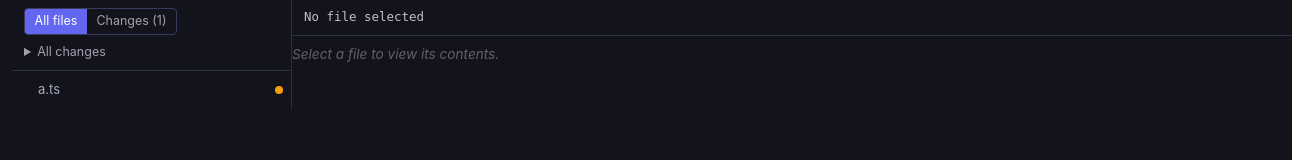
it: FilesPanel › loads file content and toggles between code and diff views
Click the text "a.ts".
click(49, 90)  # box [38, 80, 60, 100]
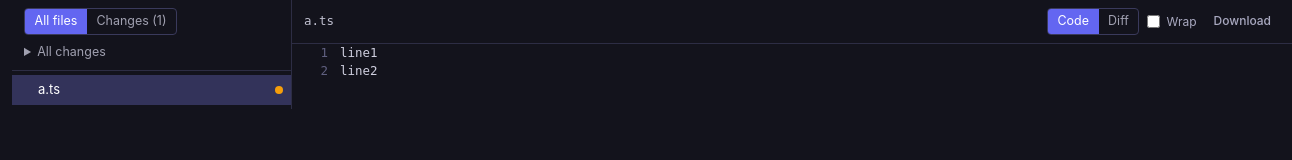
Expected: the text "line1" is shown, [340, 44, 378, 62]
Click the button "Diff".
click(1118, 22)  # box [1098, 9, 1138, 34]
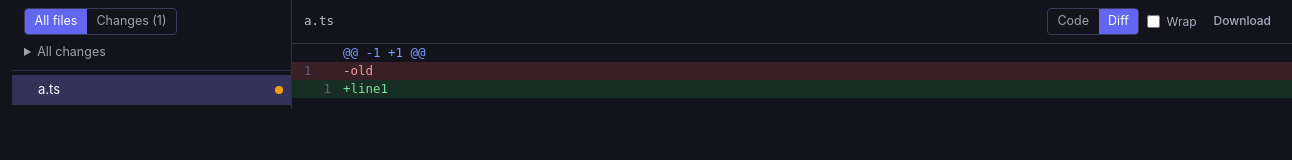
Expected: the text "+line1" is shown, [343, 80, 388, 98]
Expected: the text "-old" is shown, [343, 62, 373, 80]
